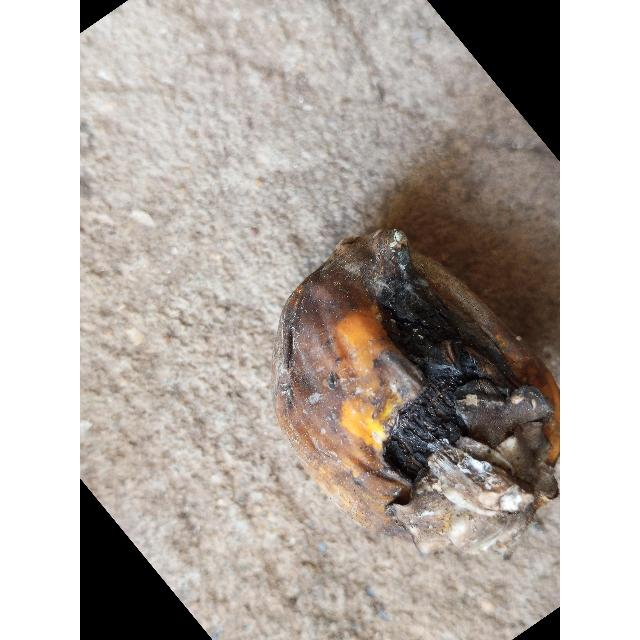damaged: (274, 228, 560, 551)
